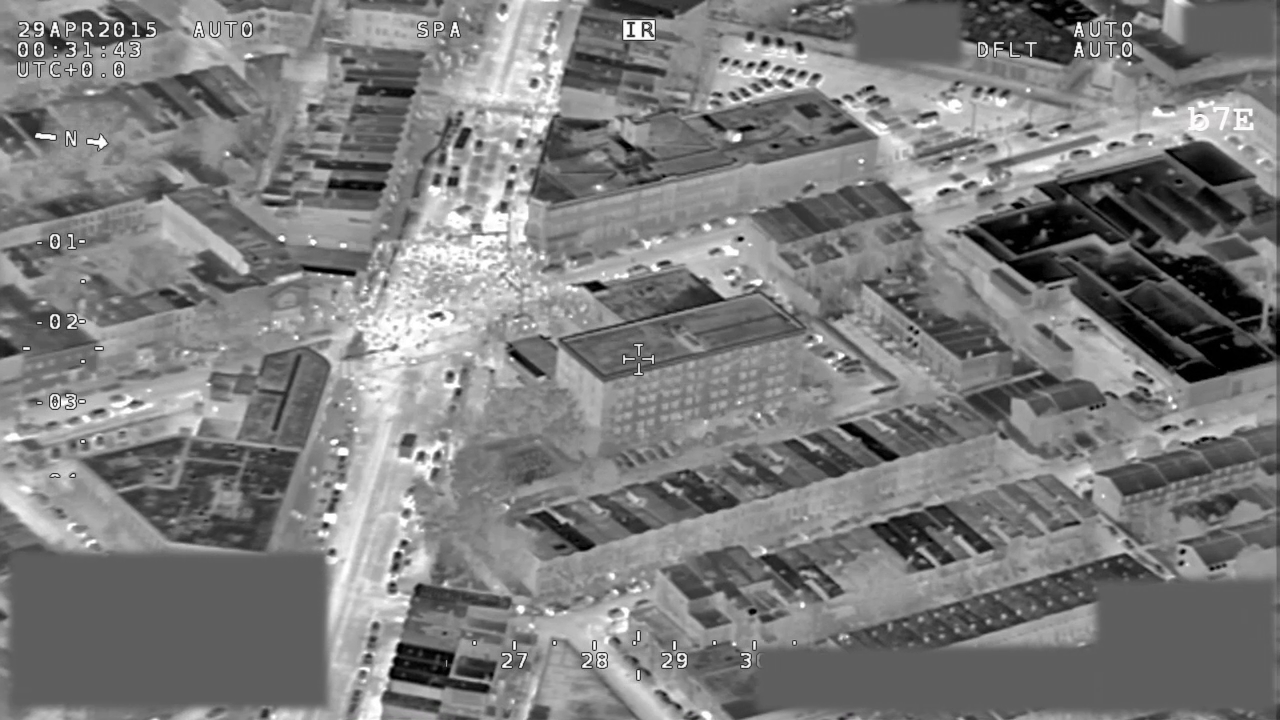vehicle: (451, 127, 472, 163), (821, 345, 853, 365), (602, 634, 628, 657), (733, 273, 764, 292), (67, 519, 95, 540), (1048, 120, 1077, 140), (448, 205, 472, 227), (931, 154, 957, 174), (398, 432, 417, 459), (604, 603, 631, 622), (720, 263, 747, 282), (565, 250, 595, 267), (838, 357, 868, 374), (1150, 102, 1179, 119), (537, 262, 564, 280), (972, 141, 1000, 158), (107, 391, 132, 410), (852, 82, 877, 101), (125, 398, 151, 416), (912, 111, 941, 127), (40, 417, 65, 435), (1153, 424, 1183, 439), (709, 244, 737, 260), (1131, 368, 1156, 385), (571, 593, 599, 608), (428, 172, 444, 198), (50, 503, 72, 521), (1223, 133, 1245, 151), (495, 1, 512, 24), (841, 92, 862, 110), (1131, 131, 1160, 144), (545, 602, 568, 618), (80, 432, 94, 458), (758, 33, 773, 57), (1238, 145, 1259, 162), (1259, 157, 1280, 174), (651, 686, 673, 702), (842, 366, 867, 380), (632, 669, 655, 684), (806, 333, 825, 351), (425, 310, 449, 324), (501, 178, 517, 199), (90, 407, 111, 423), (1183, 416, 1204, 432), (936, 187, 960, 201), (680, 224, 702, 239), (770, 62, 785, 84), (809, 71, 826, 90), (651, 232, 674, 246), (1066, 147, 1089, 161), (49, 443, 63, 466), (92, 431, 106, 454), (771, 38, 787, 58), (1067, 315, 1096, 326), (998, 90, 1013, 111), (64, 414, 88, 427), (68, 432, 80, 458), (513, 136, 527, 158), (959, 179, 981, 193), (332, 471, 347, 491), (606, 584, 626, 599), (744, 59, 757, 82), (985, 87, 998, 109), (758, 60, 771, 82), (495, 201, 510, 220), (666, 700, 685, 715), (704, 218, 724, 232), (744, 30, 758, 50), (791, 40, 805, 60), (625, 241, 646, 254), (716, 56, 731, 74), (446, 178, 460, 197), (1132, 383, 1151, 397), (723, 215, 745, 227), (705, 99, 727, 111), (447, 161, 460, 181), (949, 79, 966, 94), (794, 69, 809, 86), (749, 81, 766, 96), (325, 499, 336, 522), (622, 654, 640, 668), (428, 466, 441, 485), (738, 83, 751, 102), (387, 580, 399, 600), (474, 139, 489, 155), (725, 89, 741, 104), (1074, 326, 1100, 335), (117, 427, 128, 448), (594, 252, 617, 262), (731, 61, 742, 81), (347, 702, 359, 720), (327, 547, 339, 565), (783, 68, 795, 86), (706, 89, 724, 101), (399, 508, 411, 525), (450, 388, 462, 405), (536, 47, 548, 64), (459, 368, 469, 388), (445, 399, 456, 417), (972, 85, 983, 103), (353, 673, 366, 688), (1106, 142, 1127, 151), (363, 651, 374, 668), (552, 7, 564, 22), (351, 688, 362, 704), (388, 561, 398, 578), (444, 369, 456, 383), (318, 523, 329, 538), (404, 486, 414, 502), (416, 452, 427, 465), (365, 635, 375, 649), (390, 551, 401, 563), (335, 456, 346, 468), (400, 538, 409, 552), (541, 30, 551, 42), (546, 21, 556, 33), (508, 163, 517, 176), (528, 78, 538, 89), (369, 621, 376, 635)
